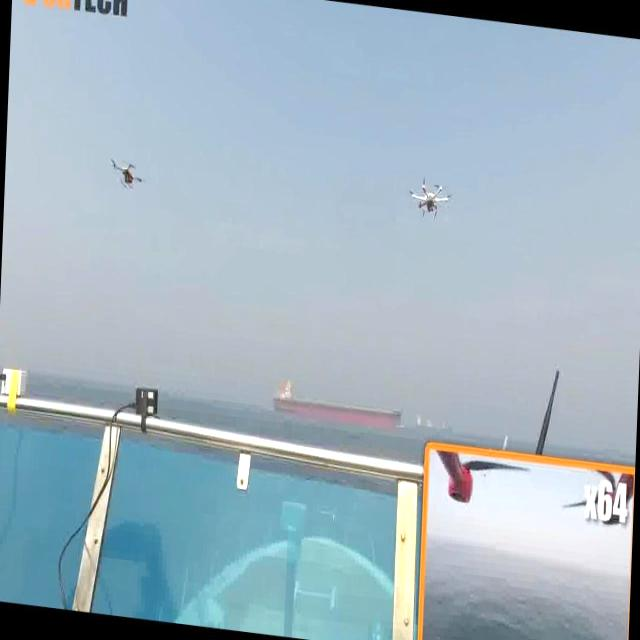drone: (400, 171, 454, 221), (108, 150, 145, 201)
